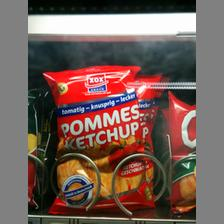Chips: (46, 68, 154, 208)
